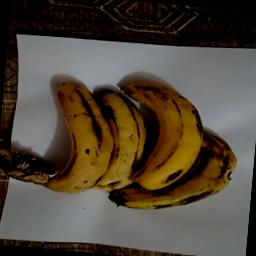Banana Unripe: (0, 75, 120, 198), (113, 76, 210, 196), (86, 84, 148, 200), (108, 158, 230, 216)
